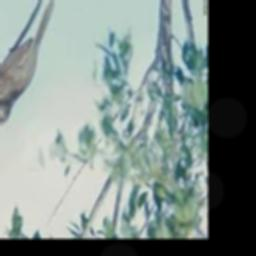Cuckoo: (0, 0, 53, 125)
